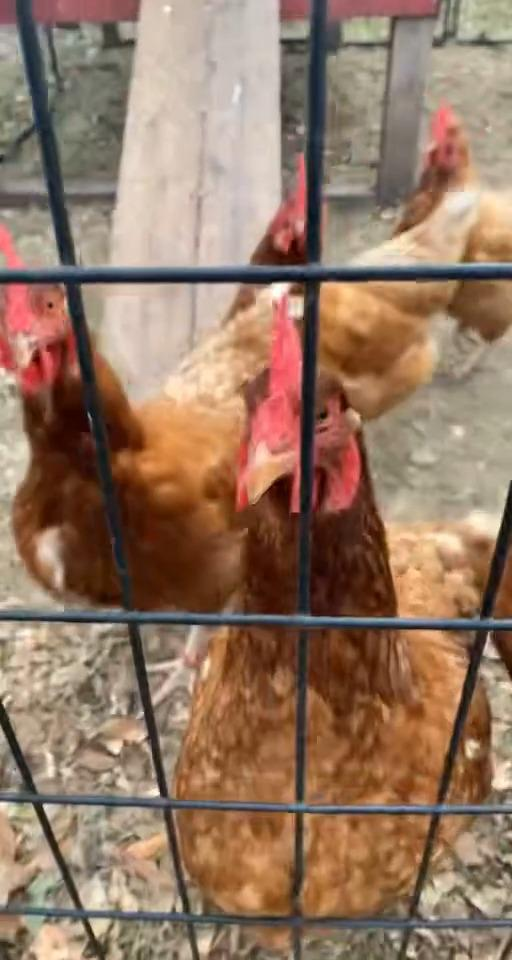rooster: (173, 292, 494, 954), (0, 221, 309, 715), (221, 152, 480, 424), (394, 102, 511, 380), (459, 508, 511, 684)
